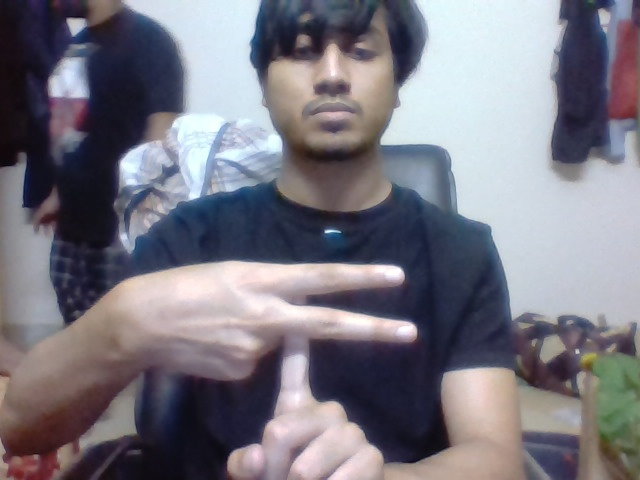F: (268, 258, 421, 407)
